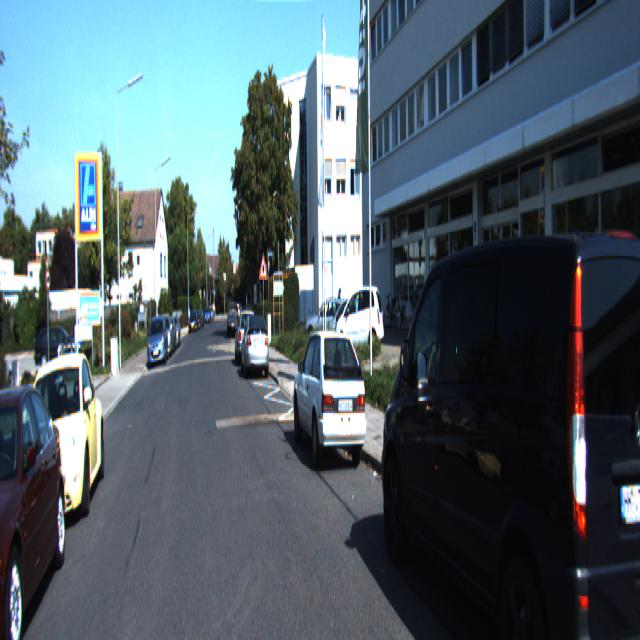Car: (376, 188, 640, 638), (5, 346, 105, 540), (289, 325, 368, 475), (332, 282, 384, 360), (240, 313, 270, 380), (144, 316, 167, 367), (224, 301, 237, 339)
